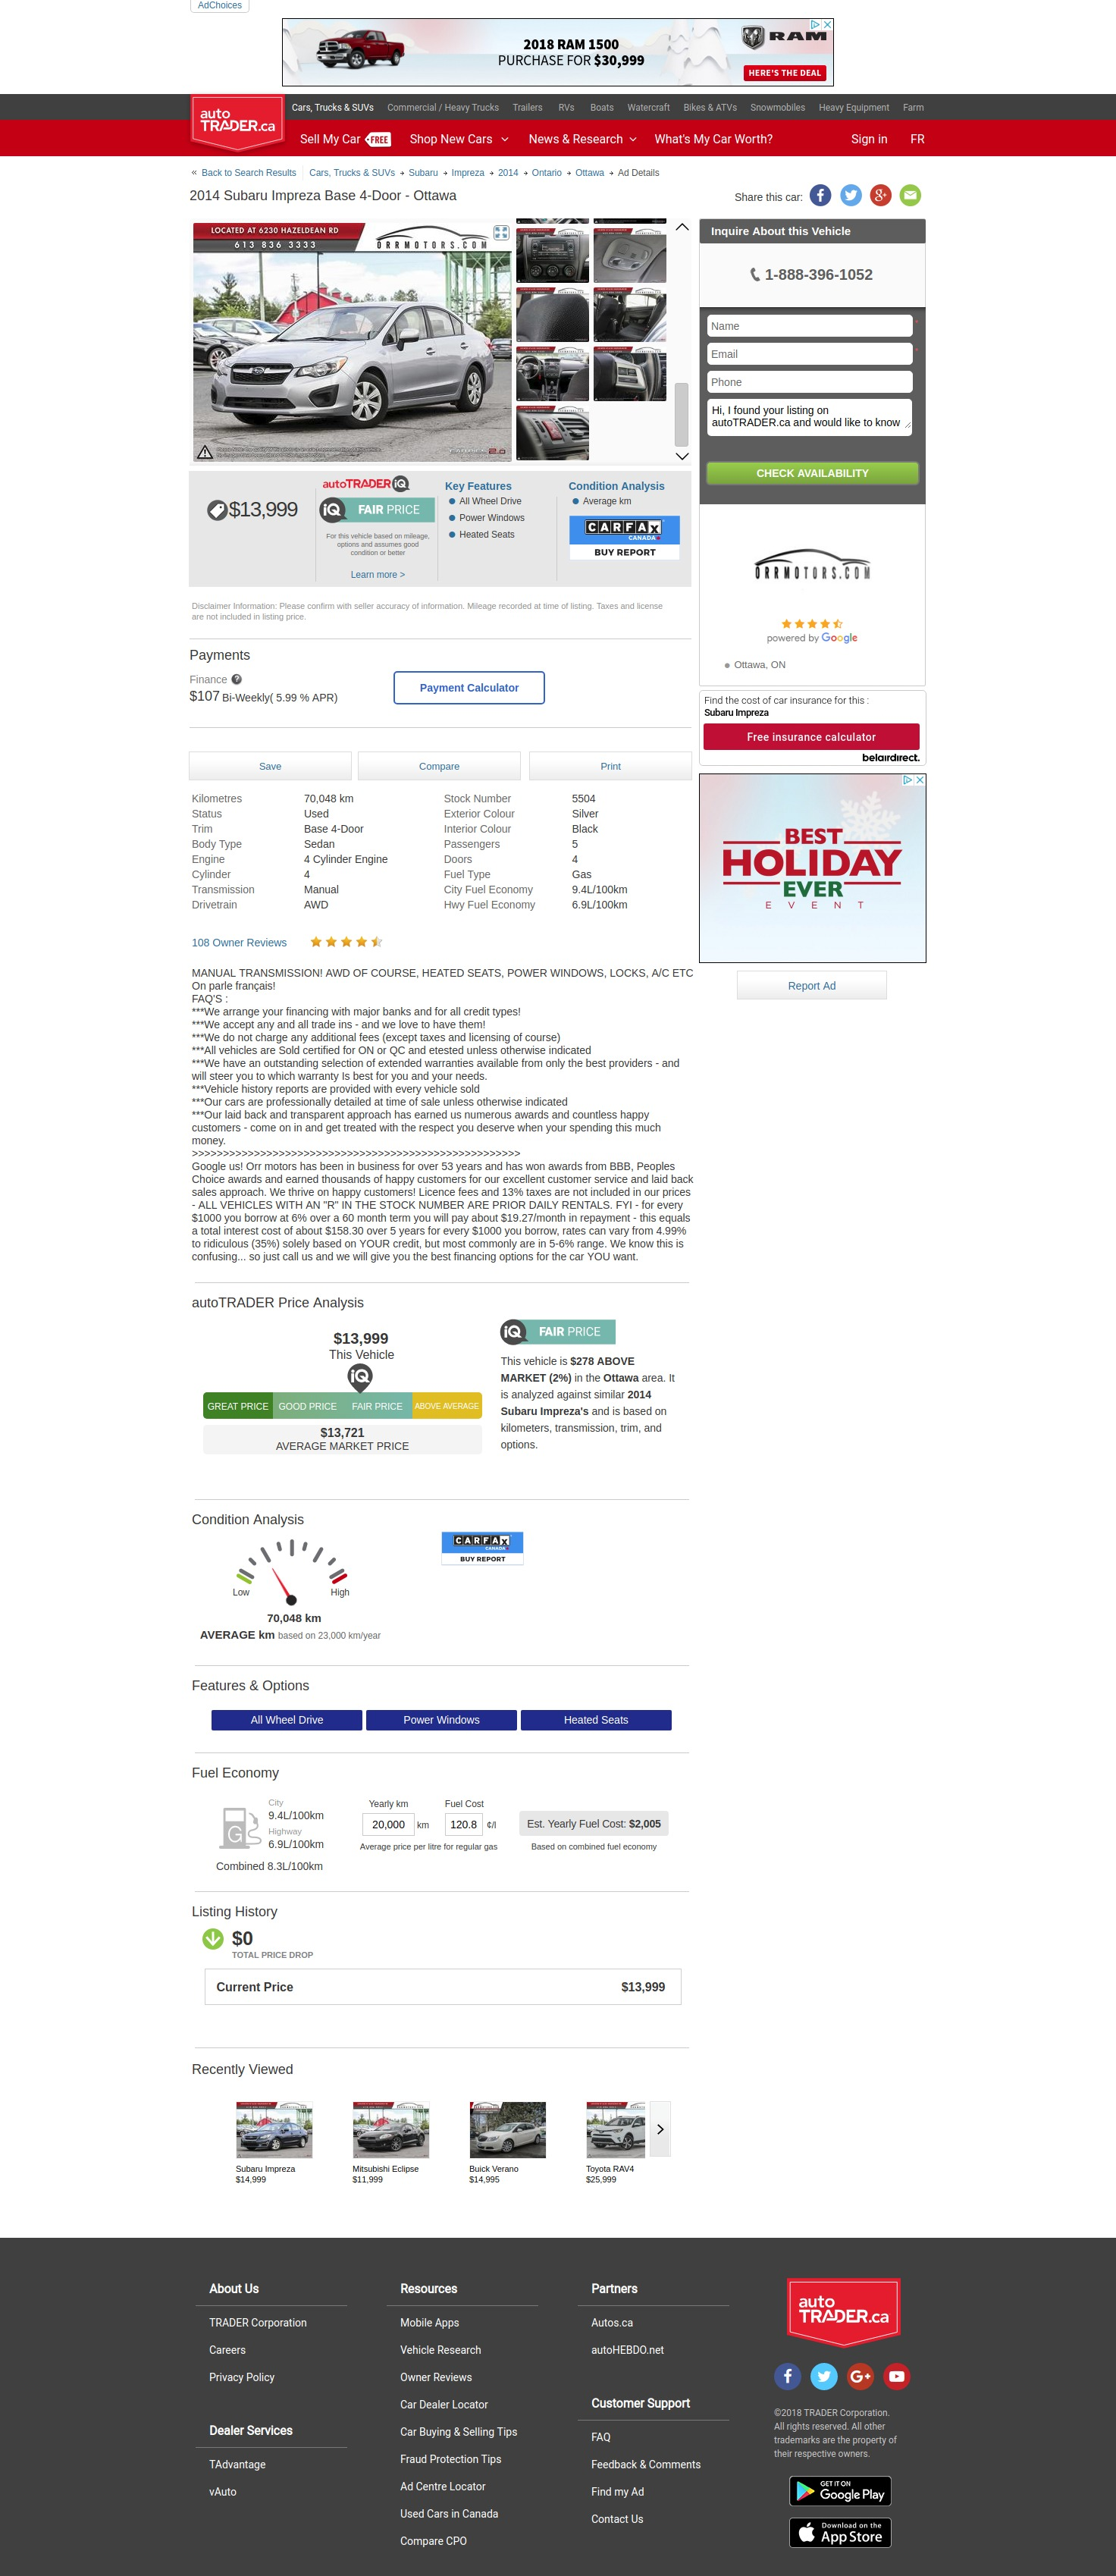car: (676, 453, 689, 462)
